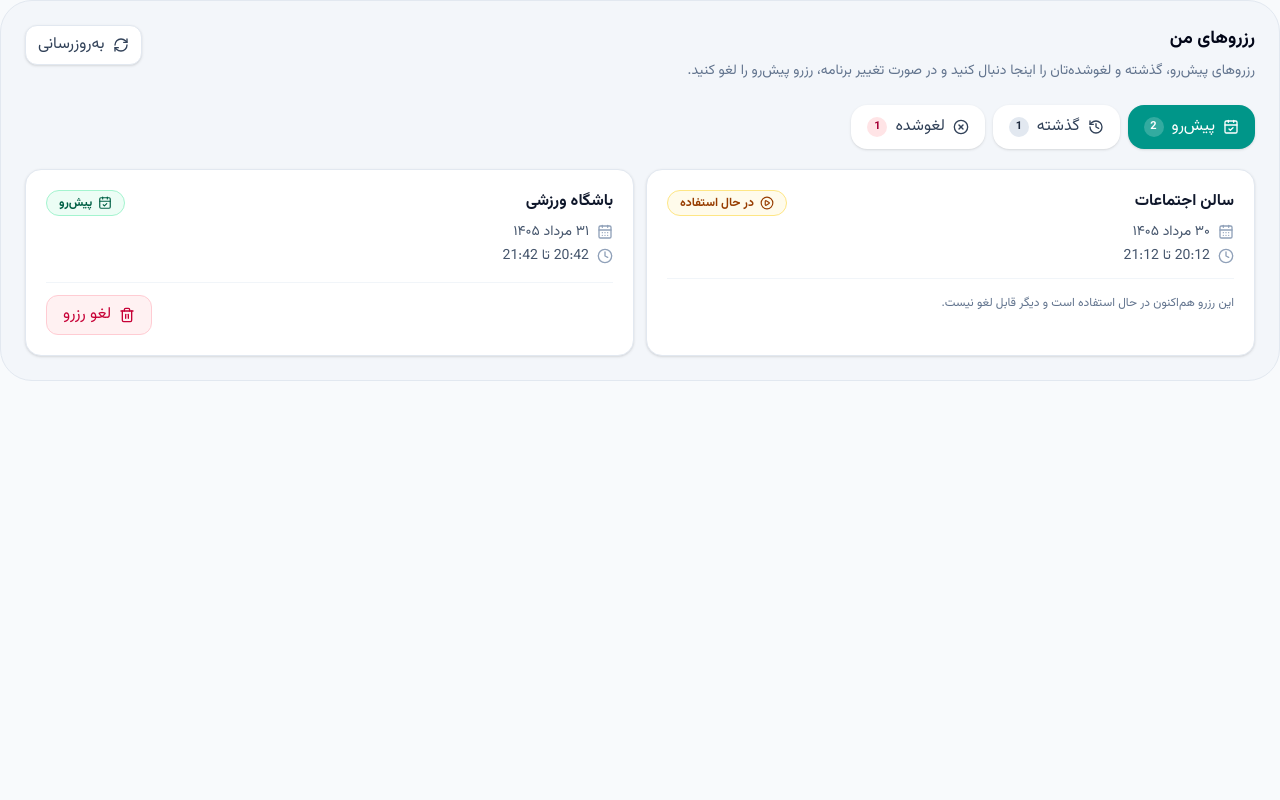
Test case: MyReservationsSection › keeps the confirmation open and surfaces the reason when the server refuses
Click the button with aria-label "لغو رزرو باشگاه ورزشی". click: point(99, 315)
box: x1=46 y1=295 x2=152 y2=335
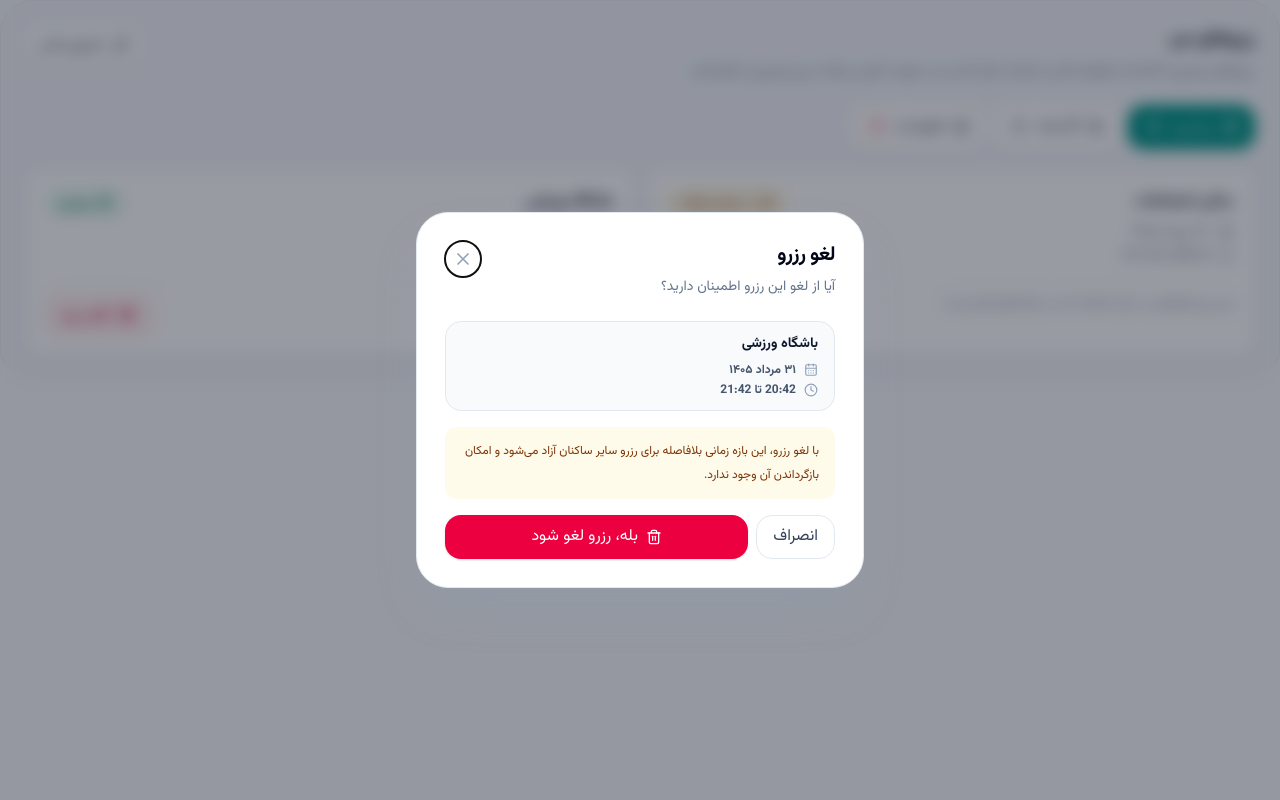
Click the button "بله، رزرو لغو شود". click: point(597, 537)
box: x1=445 y1=515 x2=748 y2=559
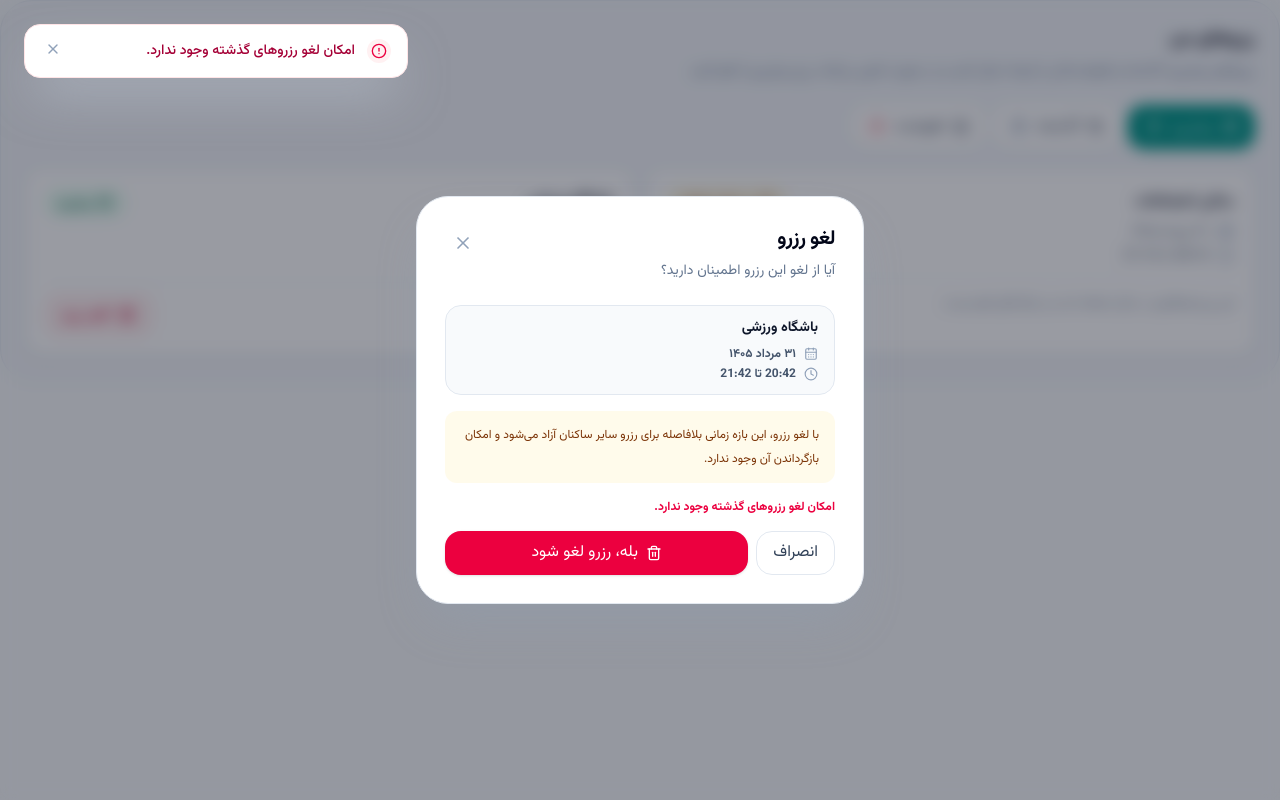
Check: the dialog "لغو رزرو" is shown, box x1=416 y1=196 x2=864 y2=604
Check: the message reads "امکان لغو رزروهای گذشته وجود ندارد.", box x1=654 y1=498 x2=835 y2=516
